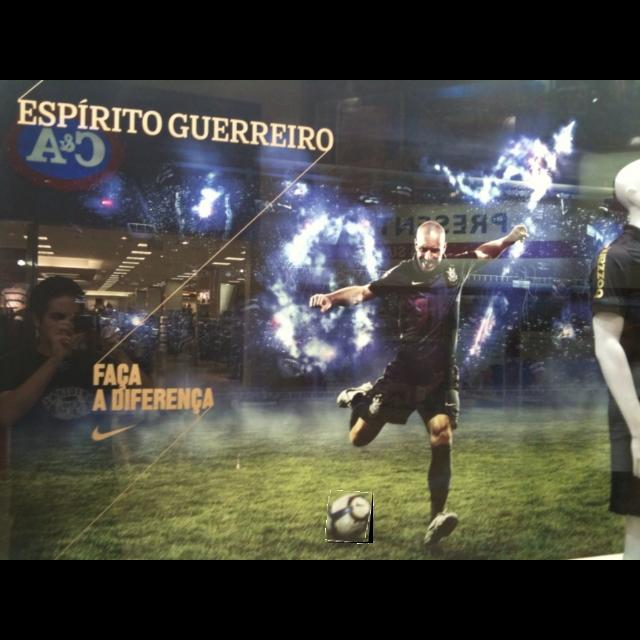Football: (327, 491, 373, 543)
